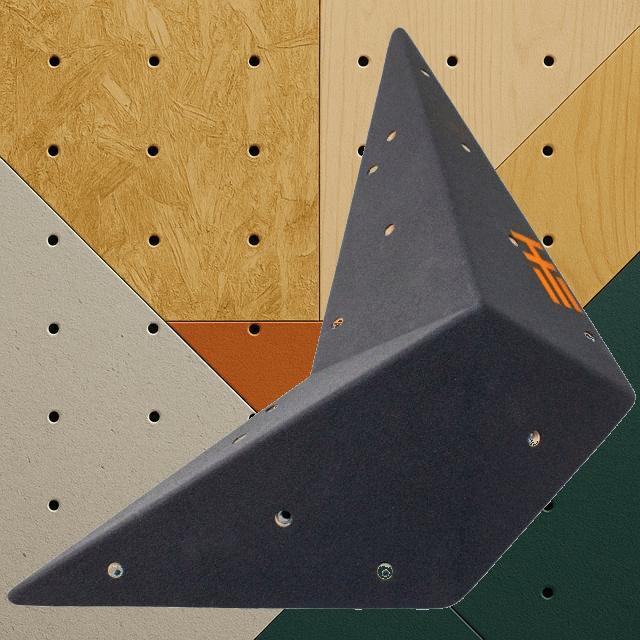Volume: (6, 26, 636, 610)
